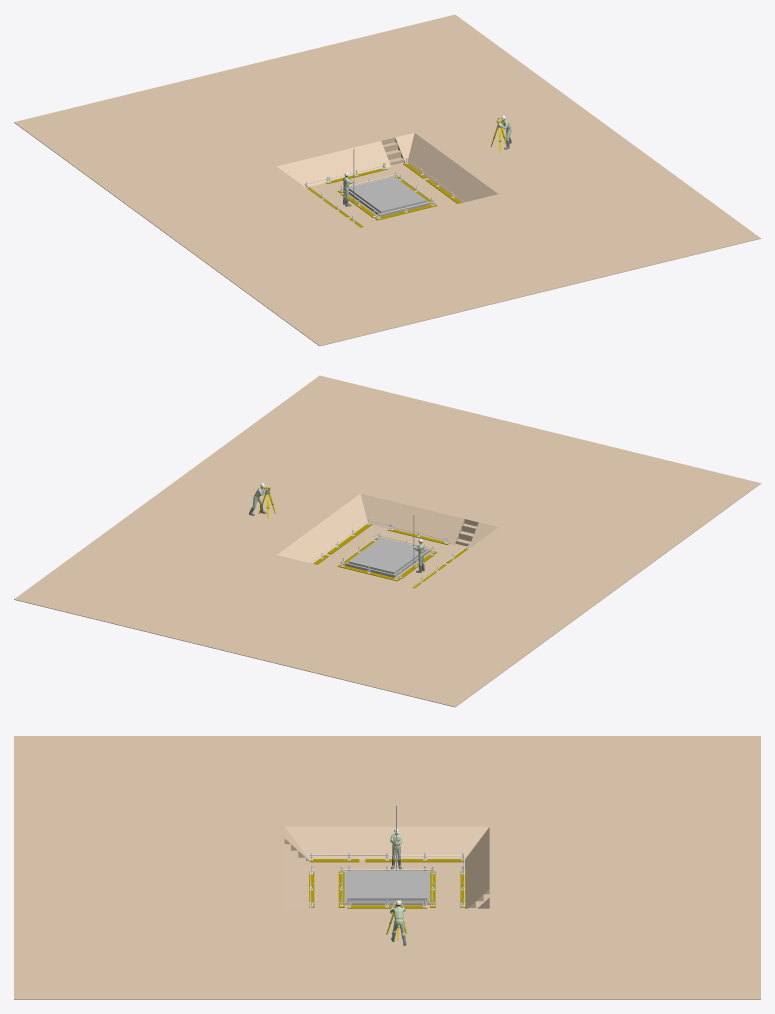
The model's file is asset.glb.
3 views of the same model, one above another, from view 1: azimuth 30°, elevation 25°; view 2: azimuth 150°, elevation 25°; view 3: azimuth 270°, elevation 25° (orthographic). The views are drawn at different scales.
Visible parts, largest first — view 1: #00_Surface EG, #13_均しコンクリート, #14 足場 (Wood), #14 足場 (Steel); view 2: #00_Surface EG, #13_均しコンクリート, #14 足場 (Wood), #14 足場 (Steel); view 3: #00_Surface EG, #13_均しコンクリート, #14 足場 (Wood), #14 足場 (Steel), #11_基礎砕石, AcDbPolyFaceMesh327.
Boxes of the visible parts, x1,y1,x2,y2 form: #00_Surface EG: (14, 14, 760, 346); #13_均しコンクリート: (349, 176, 426, 213); #14 足場 (Wood): (307, 163, 461, 227); #14 足場 (Steel): (304, 157, 464, 226); #00_Surface EG: (14, 375, 760, 707); #13_均しコンクリート: (348, 537, 426, 574); #14 足場 (Wood): (313, 524, 467, 588); #14 足場 (Steel): (310, 518, 470, 587); #00_Surface EG: (14, 736, 760, 999); #13_均しコンクリート: (347, 871, 427, 900); #14 足場 (Wood): (309, 859, 465, 908); #14 足場 (Steel): (309, 852, 465, 908); #11_基礎砕石: (345, 872, 429, 904); AcDbPolyFaceMesh327: (390, 834, 405, 935).
Bounding box in the file's own units: 25 × 2.96 × 30.
